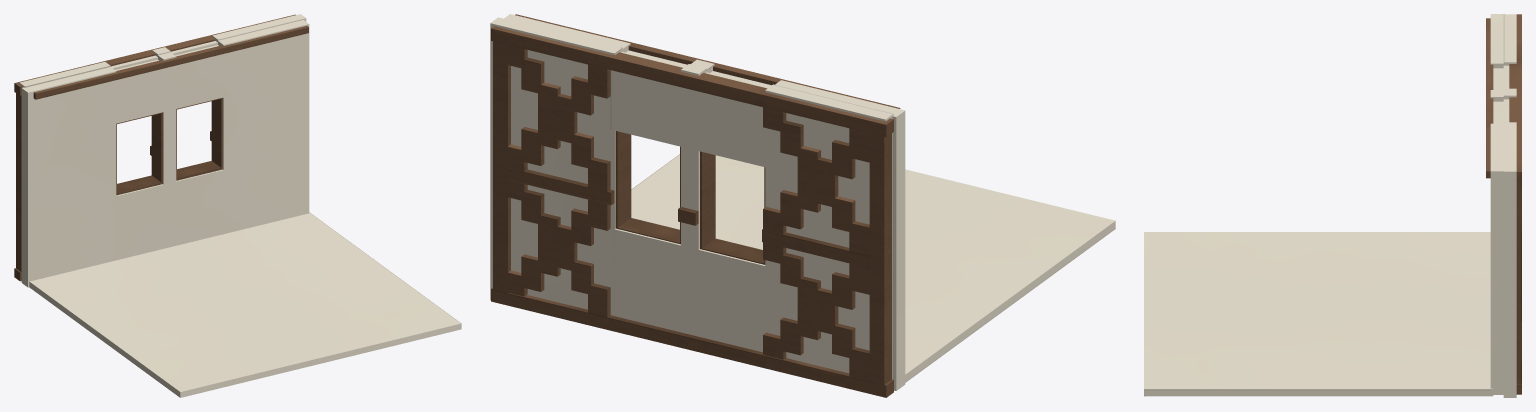
File: med_window_b.glb
3 views of the same model, side by side, from view 1: azimuth 30°, elevation 25°; view 2: azimuth 150°, elevation 25°; view 3: azimuth 270°, elevation 25° (orthographic). The views are drawn at different scales.
Visible parts, largest first — view 1: med_window_b; view 2: med_window_b; view 3: med_window_b.
Part boxes in pixels (box(x1,y1,x2,y2)): med_window_b: box(14, 14, 461, 397); med_window_b: box(490, 14, 1115, 397); med_window_b: box(1144, 14, 1521, 397).
Bounding box in the file's own units: 4.04 × 2.68 × 4.06.
Materials: 1 (1 with a texture image).
